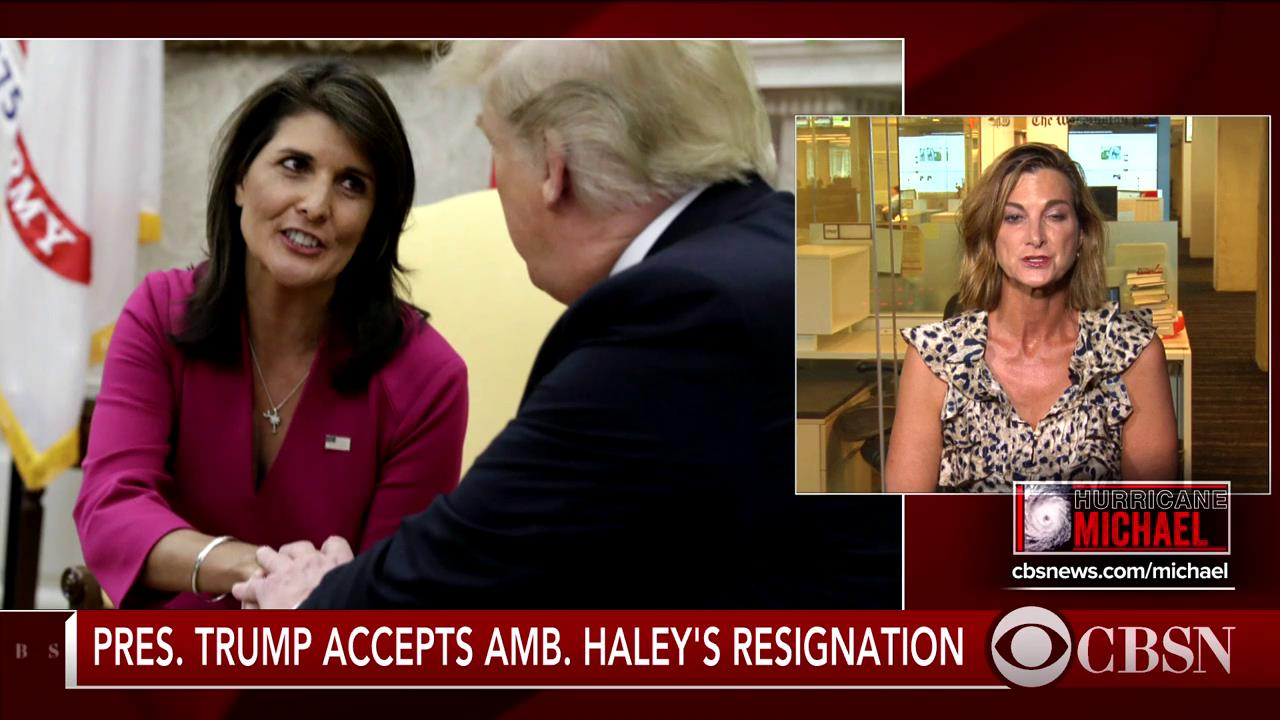B S: (10, 639, 62, 660)
CBSN: (1077, 623, 1233, 674)
HURRICANE: (1071, 486, 1228, 511)
MICHAEL: (1071, 509, 1209, 549)
MY: (1, 173, 77, 260)
PRES. TRUMP ACCEPTS AMB. HALEY'S RESIGNATION: (89, 623, 967, 671)
The: (1030, 113, 1056, 129)
cbsnews.com/michael: (1009, 560, 1230, 584)
